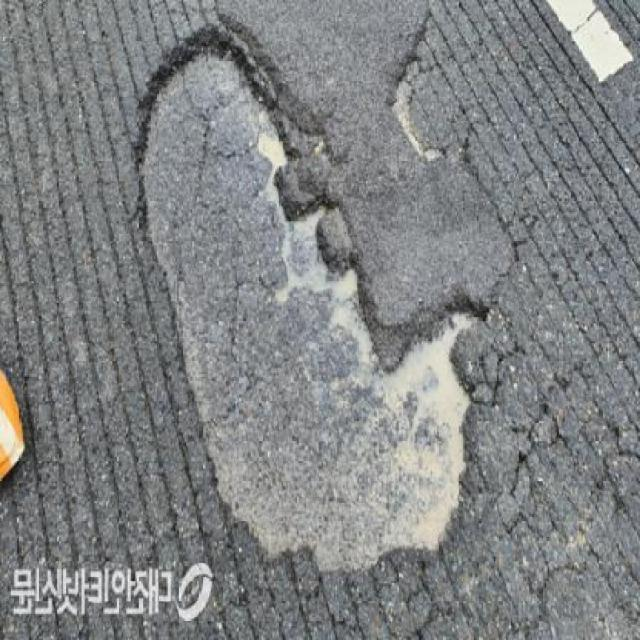pothole: (122, 21, 490, 572)
